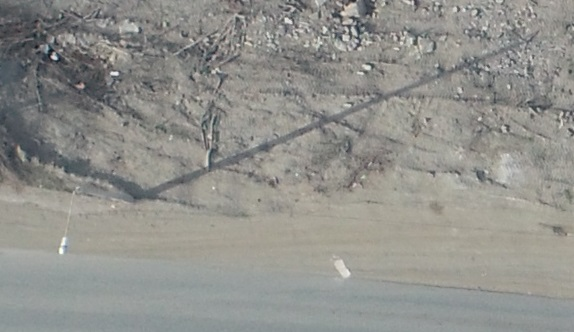opora: (58, 173, 192, 255)
